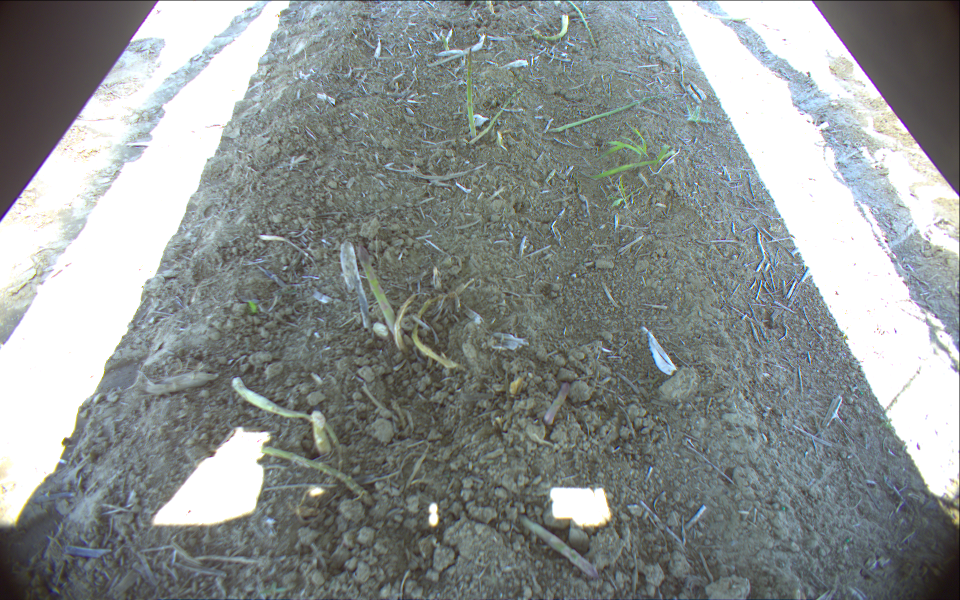aspa: (351, 237, 408, 351), (458, 43, 483, 142)
